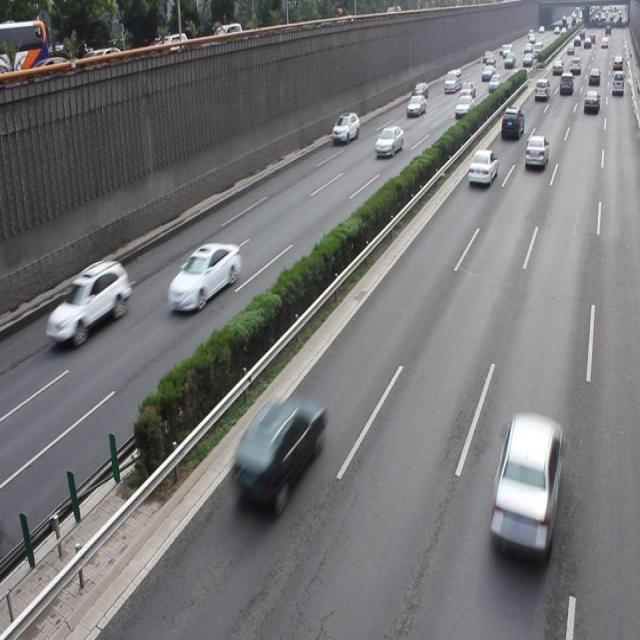car: (230, 394, 325, 516), (488, 412, 560, 560), (45, 258, 131, 344), (167, 239, 240, 313), (466, 149, 497, 185), (523, 135, 548, 170)
